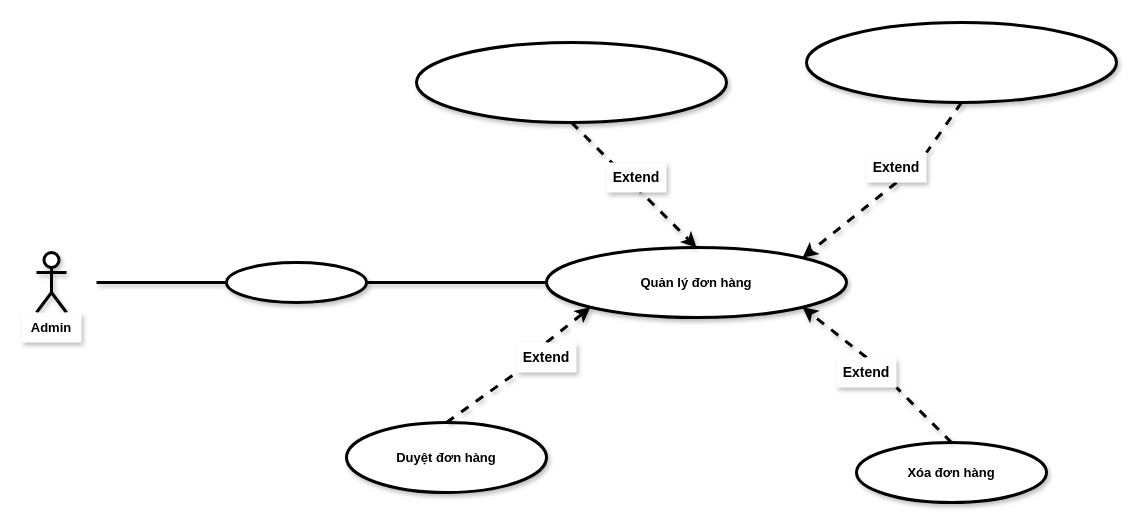
The diagram is 1141 pixels wide and 528 high, and some of its shapes have lost their labels. Here are the shapes that lost their labels. From the top down, the centre of each, then its label:
(572,83): Xem thông tin khách hàng
(962,63): Xem thông tin đơn hàng
(297,283): Đăng nhập
